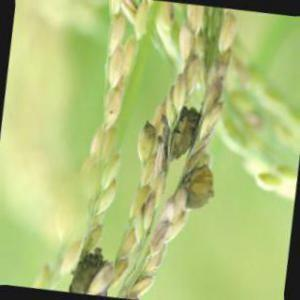Leaf_Scald: (63, 252, 102, 300), (181, 161, 219, 206), (171, 103, 195, 168)
